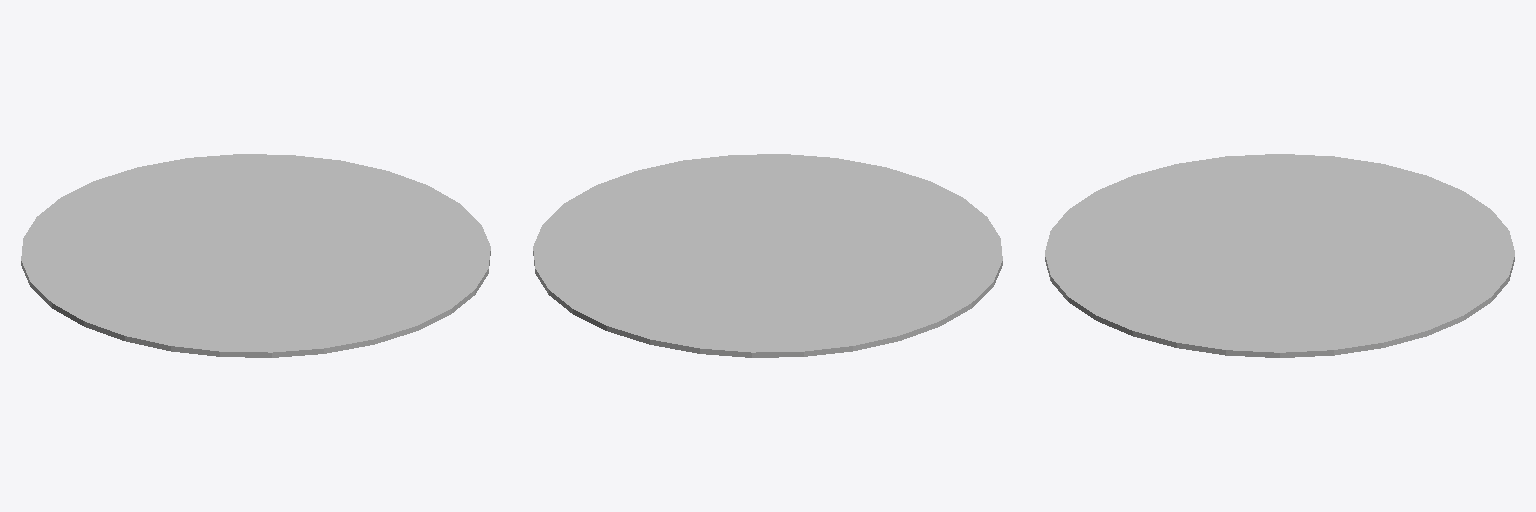
File: terrain Wooded Hill #107.obj
3 renders of one model, left to right at view 1: azimuth 30°, elevation 25°; view 2: azimuth 150°, elevation 25°; view 3: azimuth 270°, elevation 25°, orthographic.
Bounding box in the file's own units: 3.15 × 0.04 × 3.15.